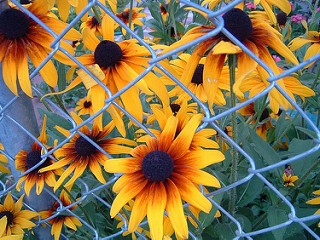flower: (99, 86, 232, 240), (52, 13, 173, 118), (0, 0, 92, 104), (43, 110, 140, 187), (304, 152, 320, 240)
